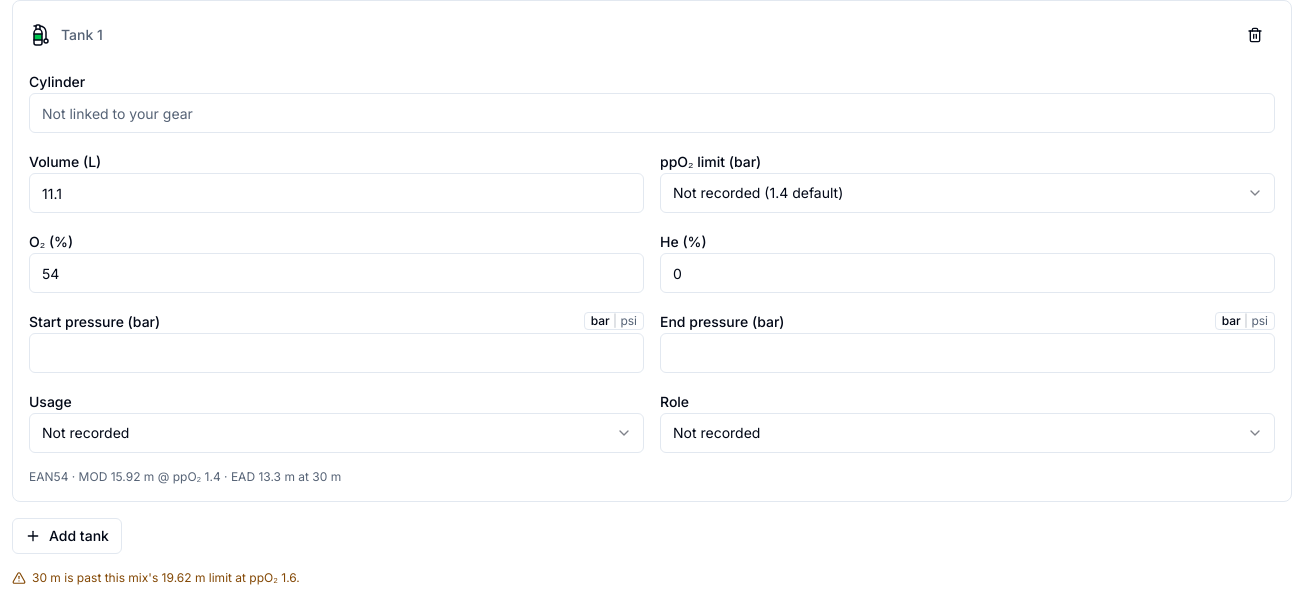
Test: MixtureFields entry units › commits the bar behind a pressure typed in psi
The width and height of the screenshot is (1292, 602).
Click the button with aria-label "bar | psi — switch pressure entry to psi": (614, 321) [584,312,644,330]
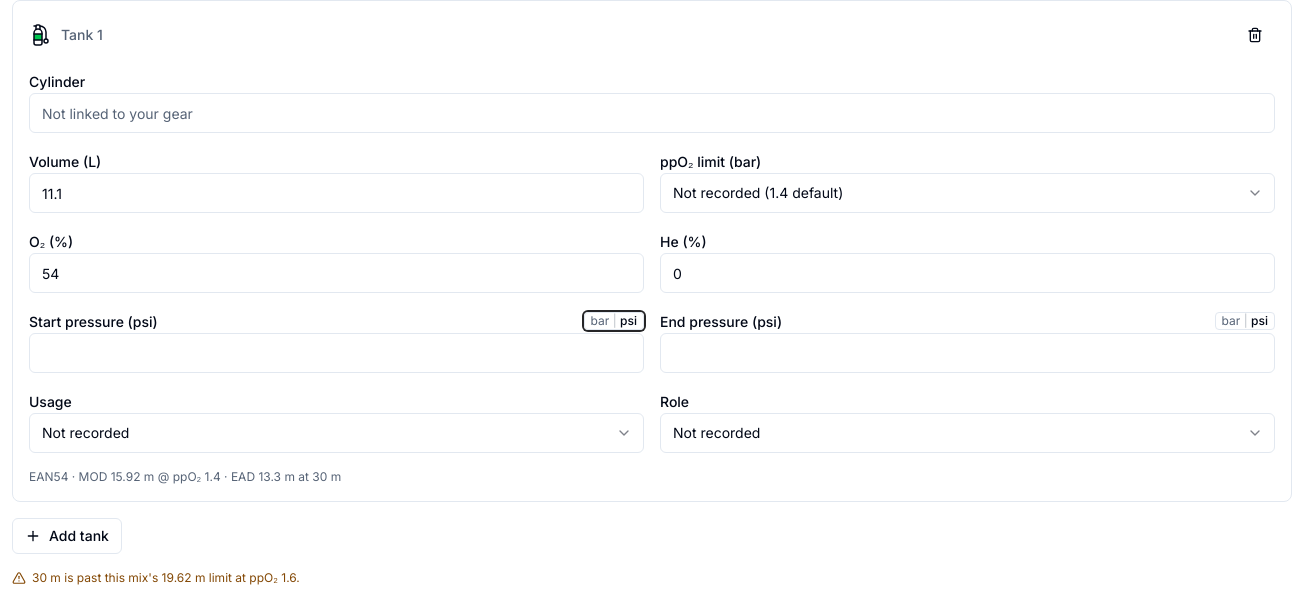
In the number field labelled "Start pressure (psi)": (336, 353) [29,333,644,373], type "3000"
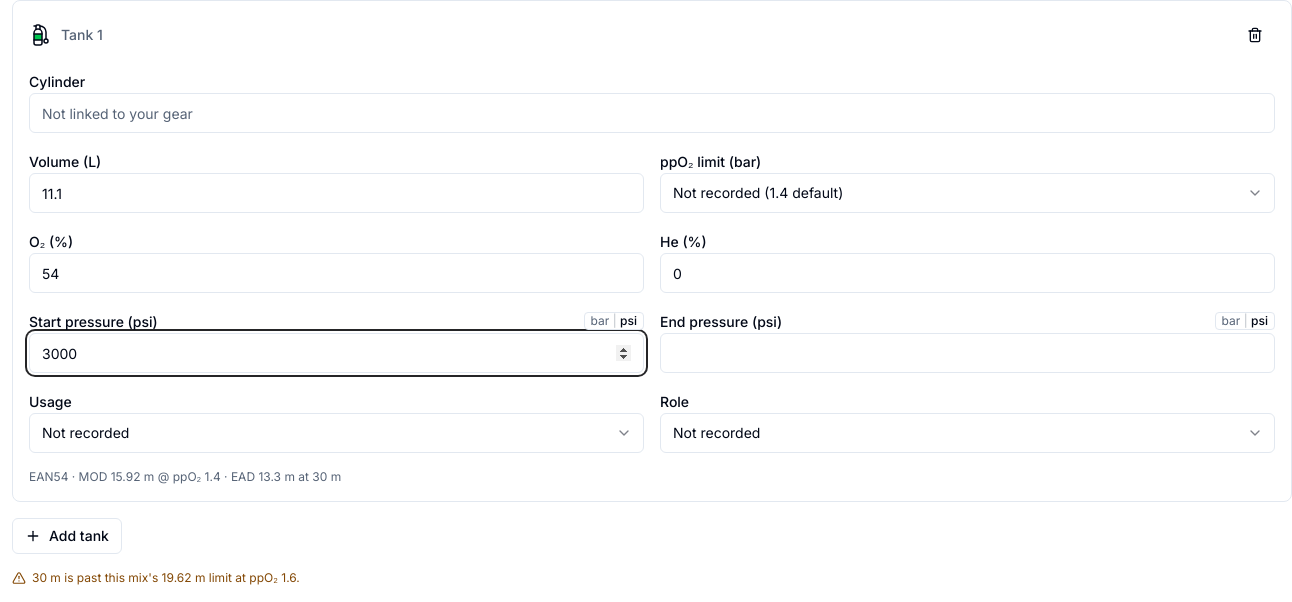
Click the button with aria-label "bar | psi — switch pressure entry to bar": (614, 321) [584,312,644,330]
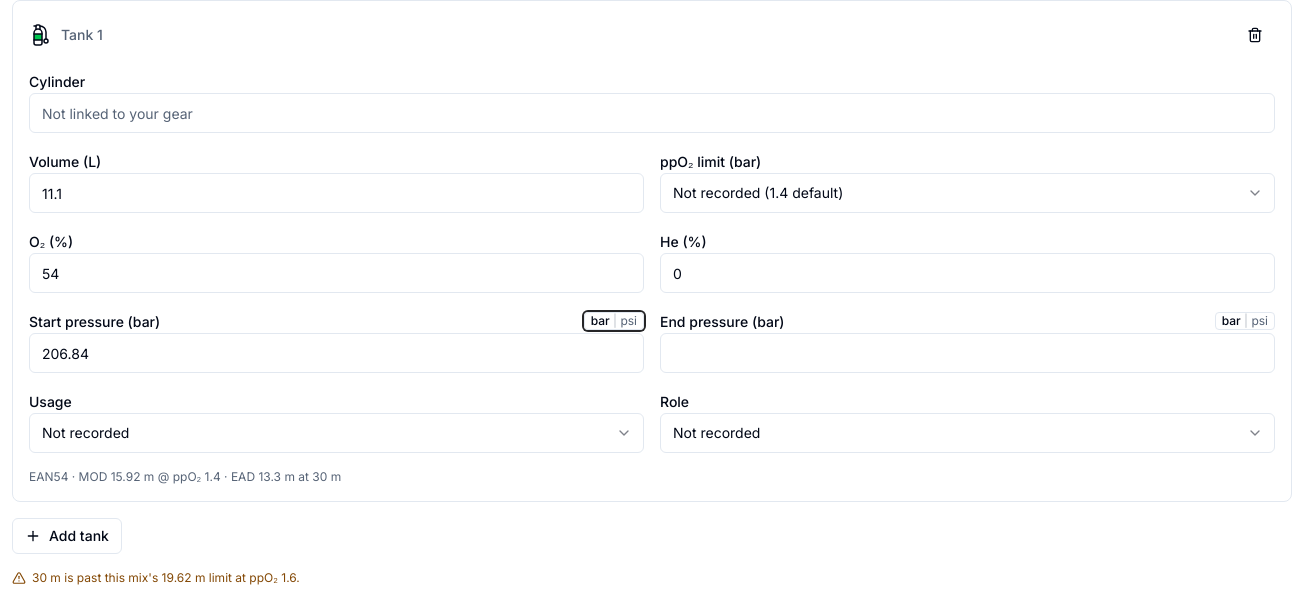
Expected: the number field labelled "Start pressure (bar)" holds "206.84", [29,333,644,373]
